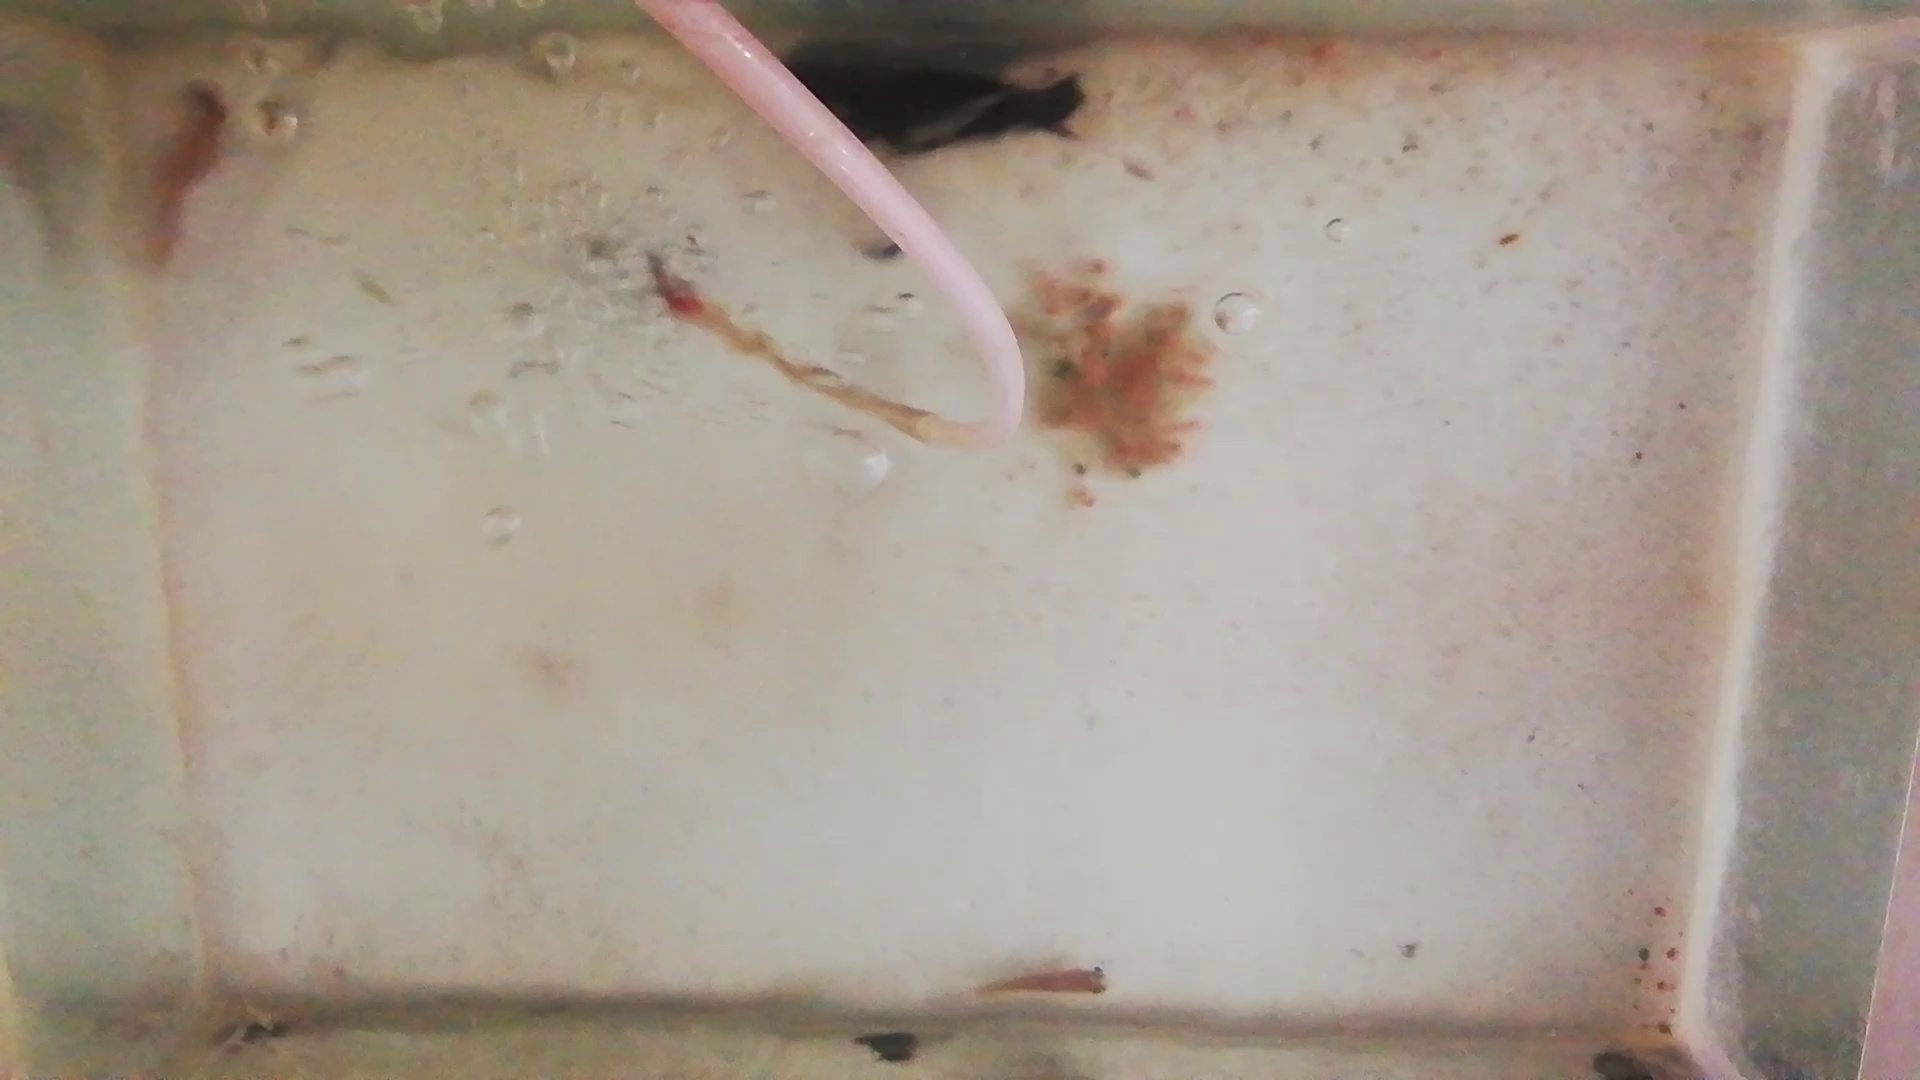fish: (136, 80, 228, 273), (977, 963, 1116, 1001)
